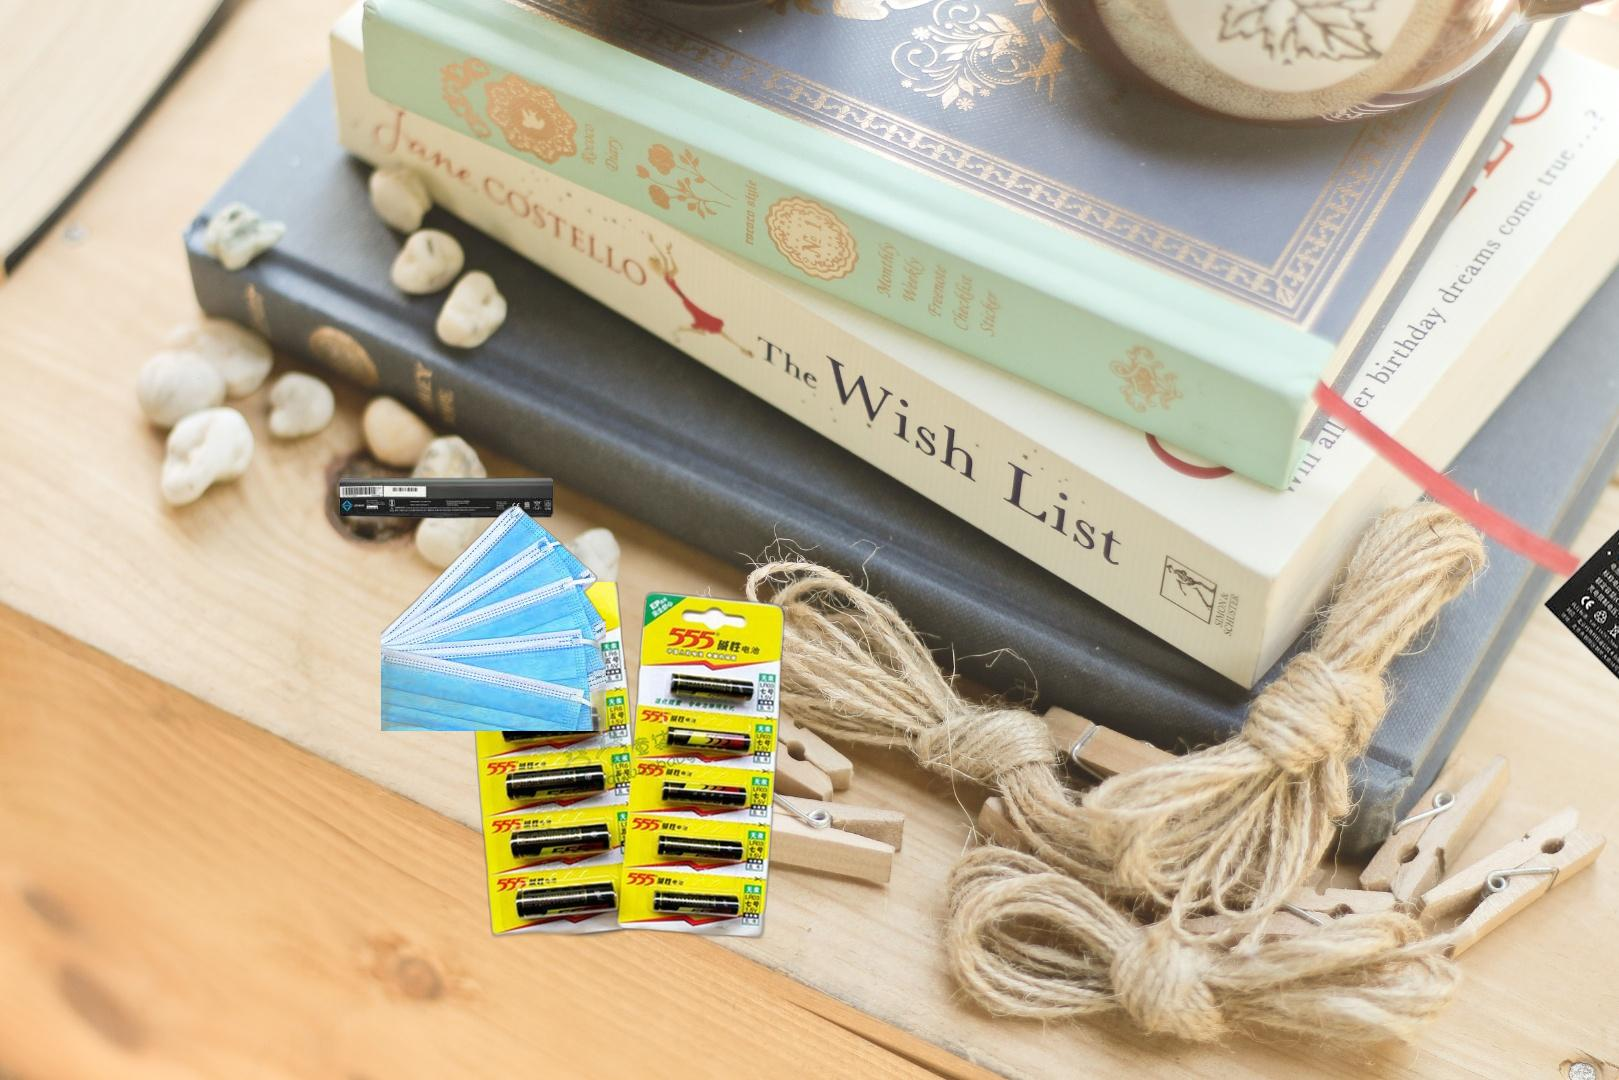battery: (463, 582, 787, 956), (1543, 526, 1619, 708), (336, 475, 557, 521)
biological: (186, 994, 684, 1080)
trash: (381, 506, 606, 730)
